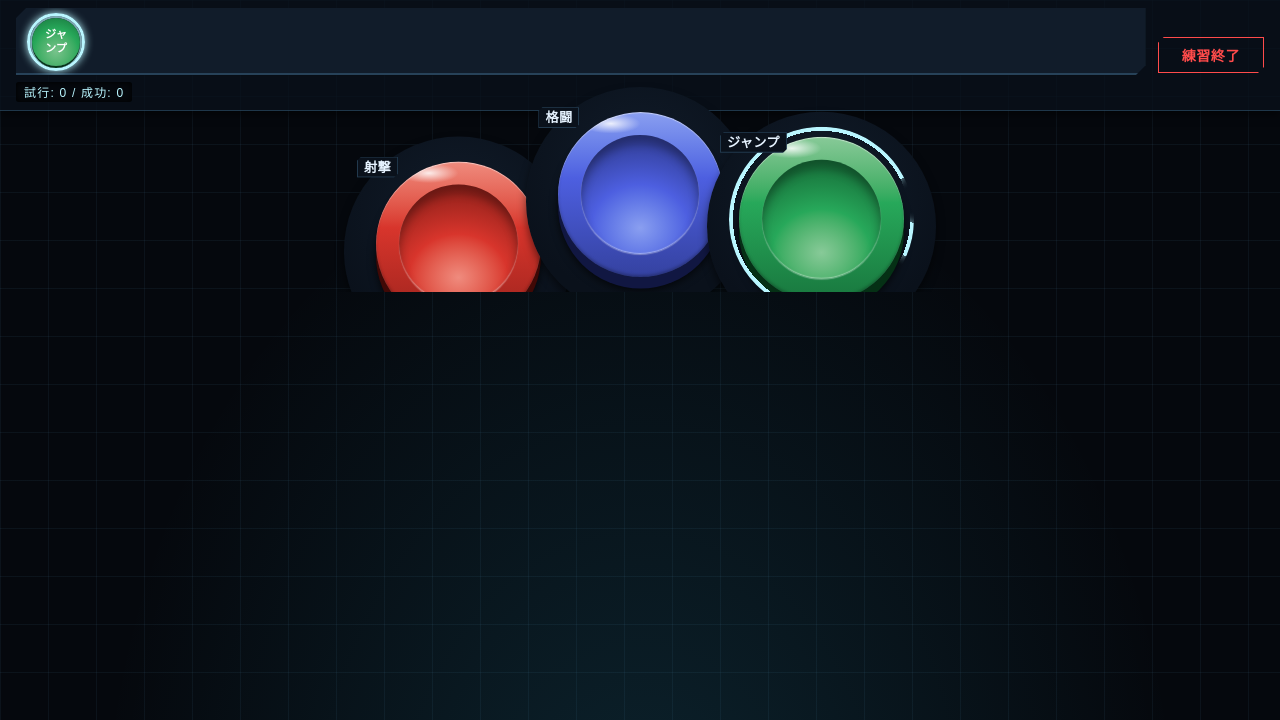
Test: 練習セッション結果フロー 統合テスト › 失敗後の SessionResult DOM 確認 › 失敗1回後のサマリで成功率 0% が DOM に表示される
Press the mouse on the button "射撃": (458, 244) [376,162,541,327]
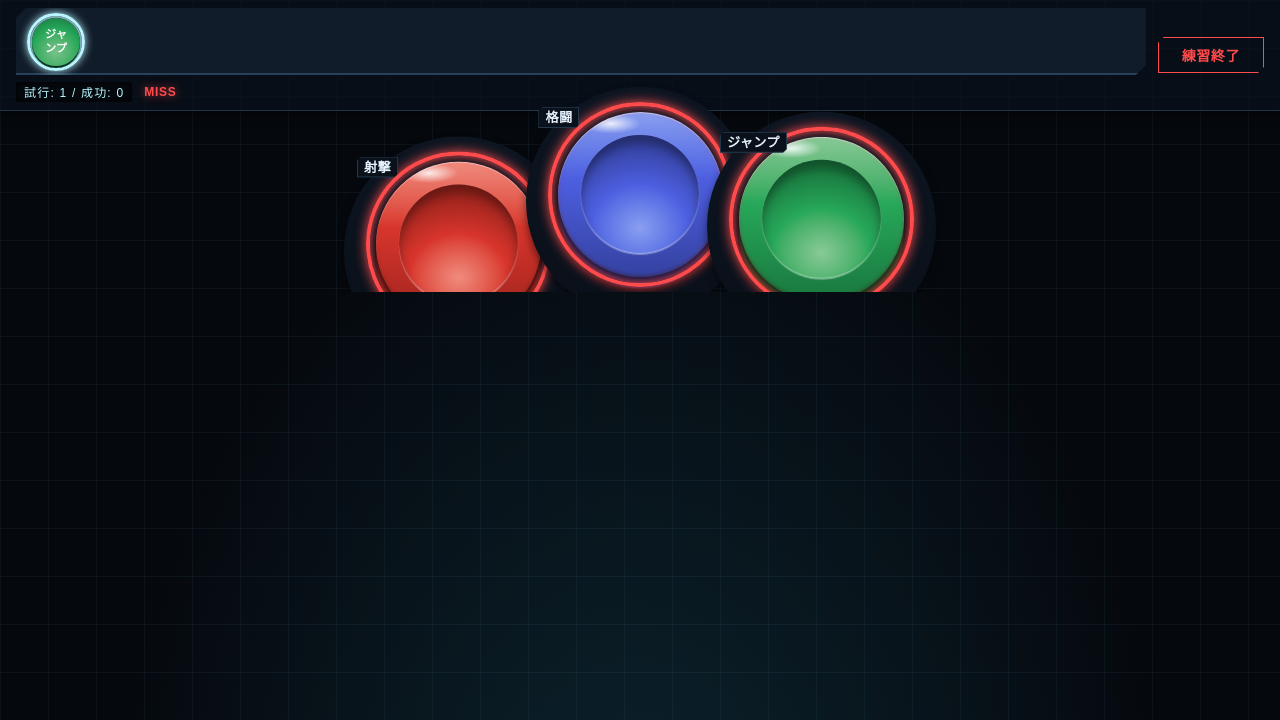
Click the button "練習終了": (1211, 55) [1158,37,1264,73]
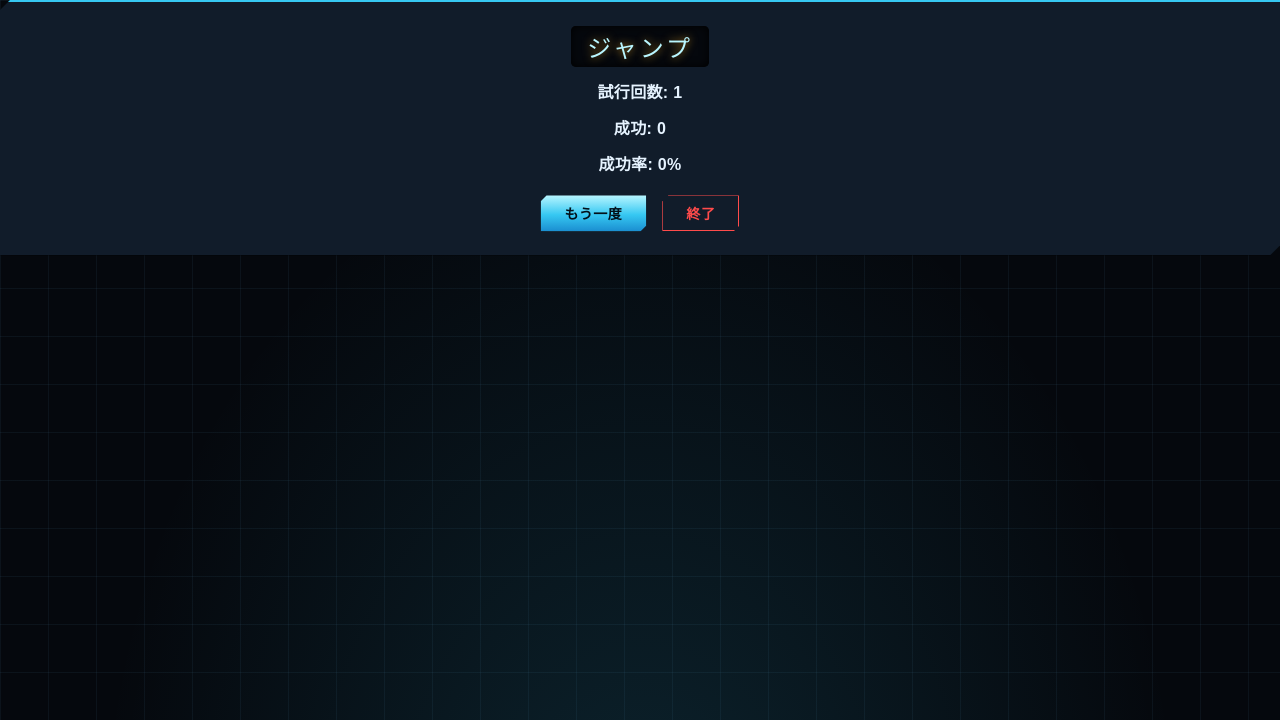
Check: the text with test id "success-rate" shows "0", box [658,156,667,173]
